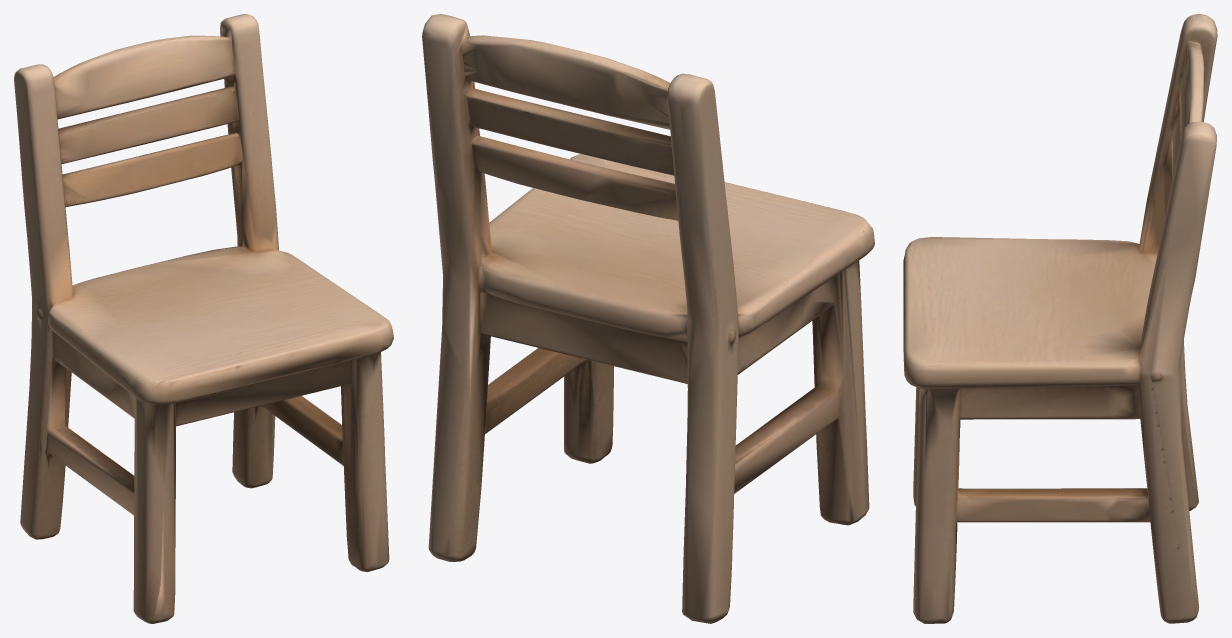
Rendered from chair-dorm-lite.glb.
3 views of the same model, side by side, from view 1: azimuth 30°, elevation 25°; view 2: azimuth 150°, elevation 25°; view 3: azimuth 270°, elevation 25° (orthographic). The views are drawn at different scales.
Visible parts, largest first — view 1: node_0; view 2: node_0; view 3: node_0.
Part boxes in pixels (bbox=[...]): node_0: bbox=[14, 14, 393, 623]; node_0: bbox=[422, 14, 874, 623]; node_0: bbox=[903, 14, 1217, 623].
Size of the model in its own units: 0.5609 by 0.9663 by 0.5593.
1 material, 1 textured.
